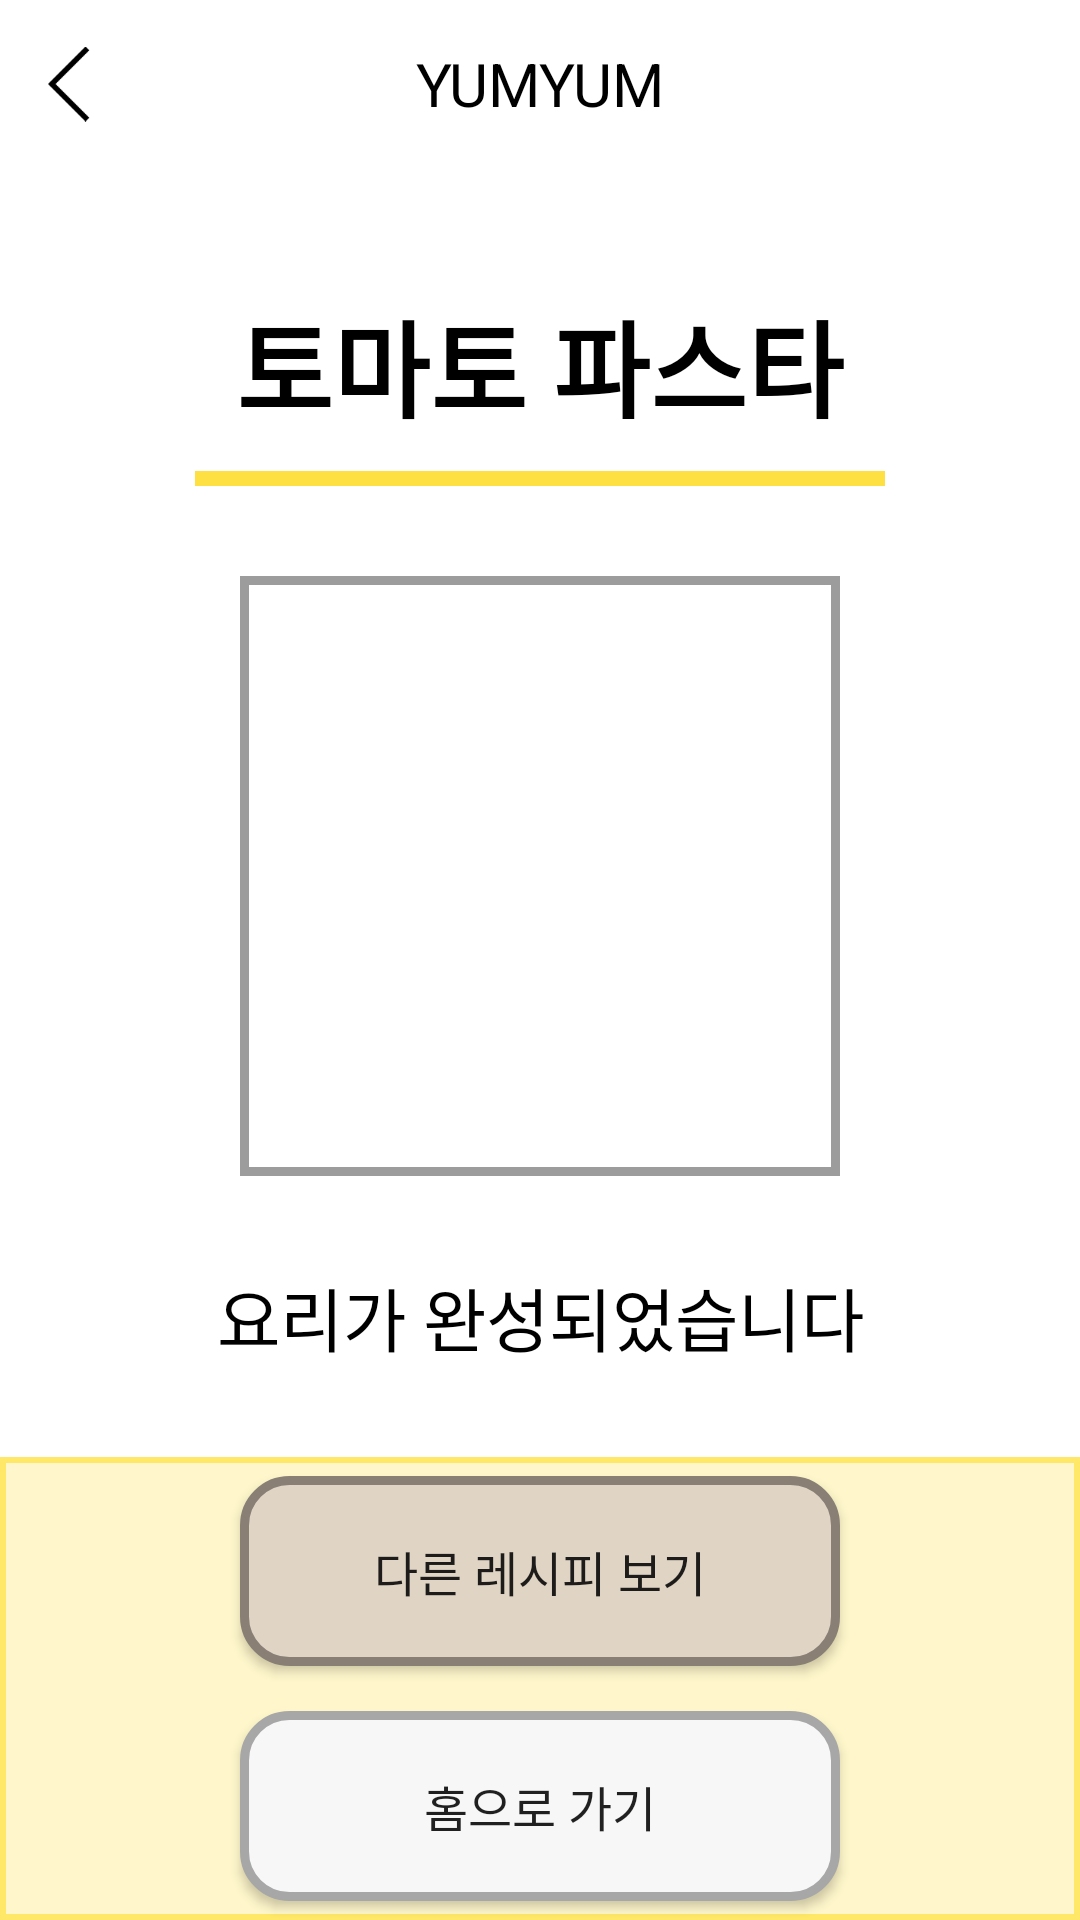

Icons on this 1080 × 1920 Android screen, each with its box as bbox=[x1, y1, x2, y2]:
back: bbox=[48, 47, 89, 122]
